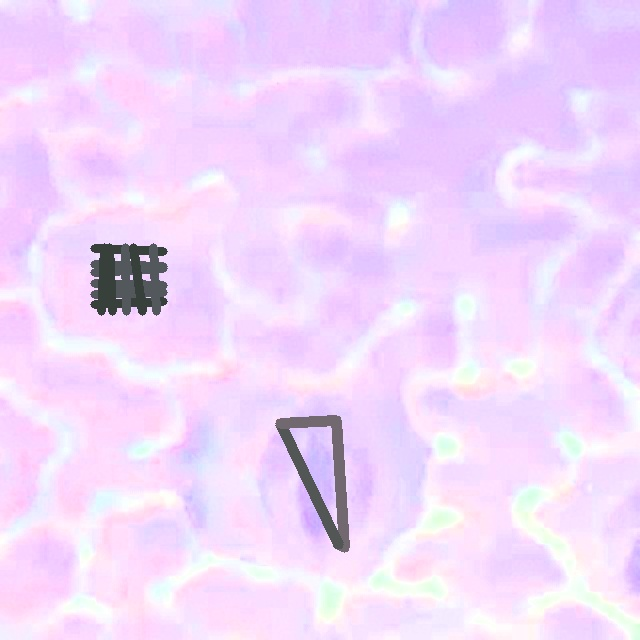close: (90, 243, 167, 315)
open: (276, 415, 348, 548)
